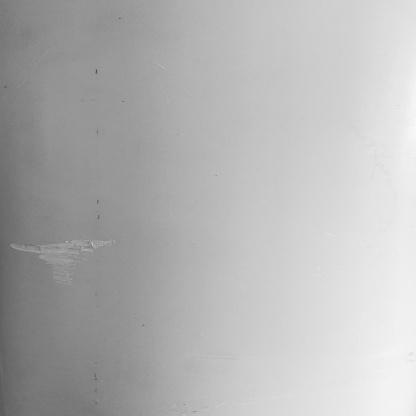sunshang: (6, 243, 111, 286)
